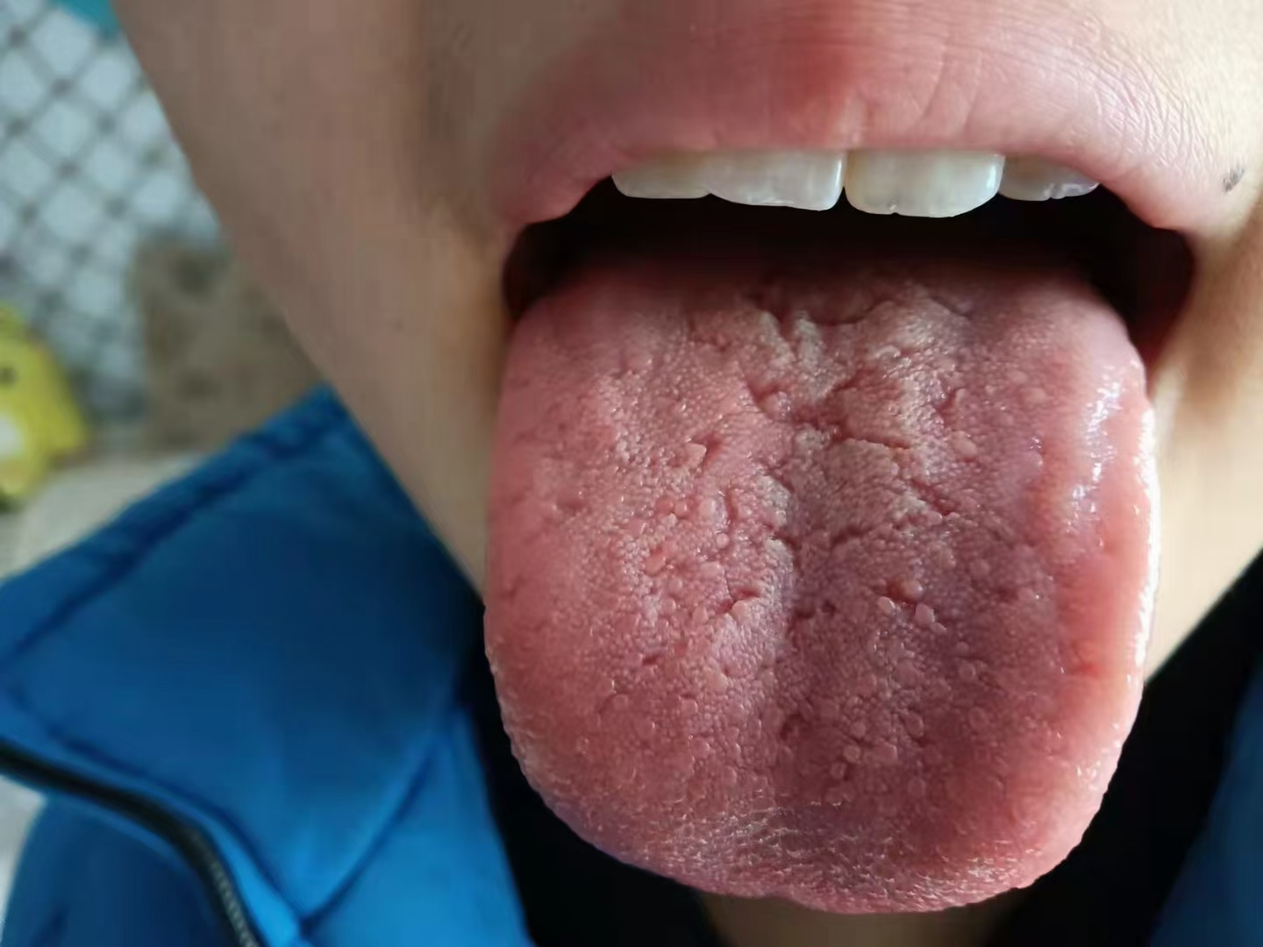hongshe: (483, 248, 1162, 914)
liewenshe: (713, 288, 961, 684)
